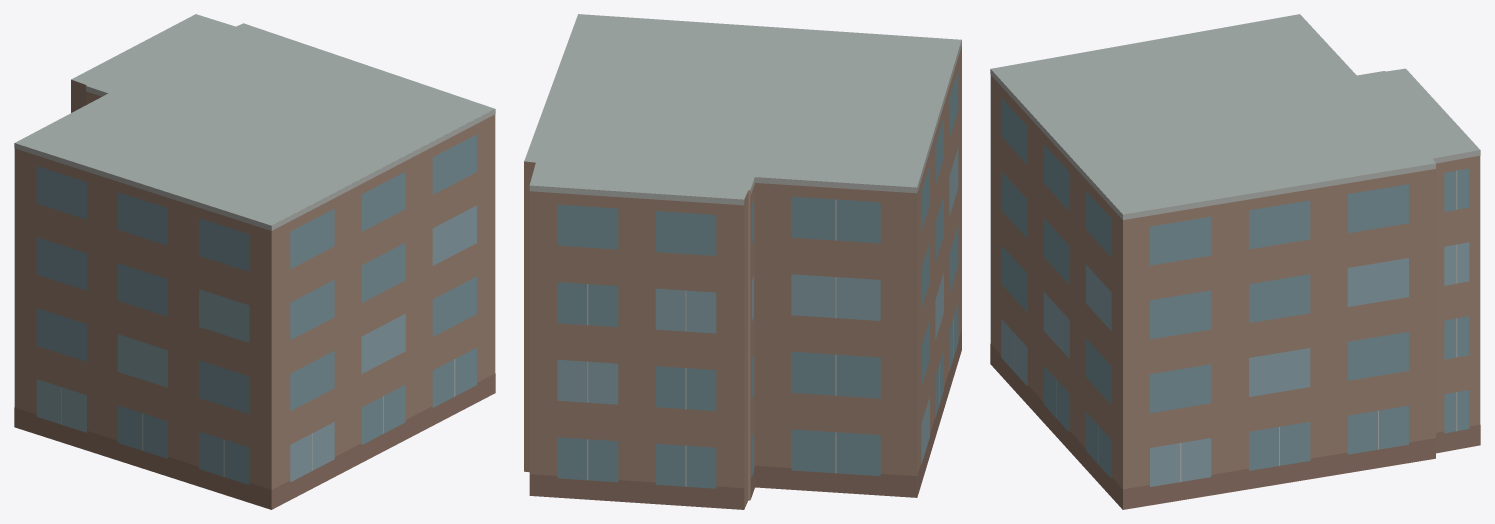
The model's file is survey-upis-32839882.glb.
The picture shows the model from 3 angles, left to right: view 1: azimuth 30°, elevation 25°; view 2: azimuth 150°, elevation 25°; view 3: azimuth 270°, elevation 25°; orthographic projection. The views are drawn at different scales.
Parts seen in each view (by area): view 1: survey-upis-32839882.tmp; view 2: survey-upis-32839882.tmp; view 3: survey-upis-32839882.tmp.
Boxes of the visible parts, x1,y1,x2,y2 form: survey-upis-32839882.tmp: (14,14,495,509); survey-upis-32839882.tmp: (524,14,961,509); survey-upis-32839882.tmp: (990,14,1480,509).
Size of the model in its own units: 19.1 by 13.1 by 19.71.
